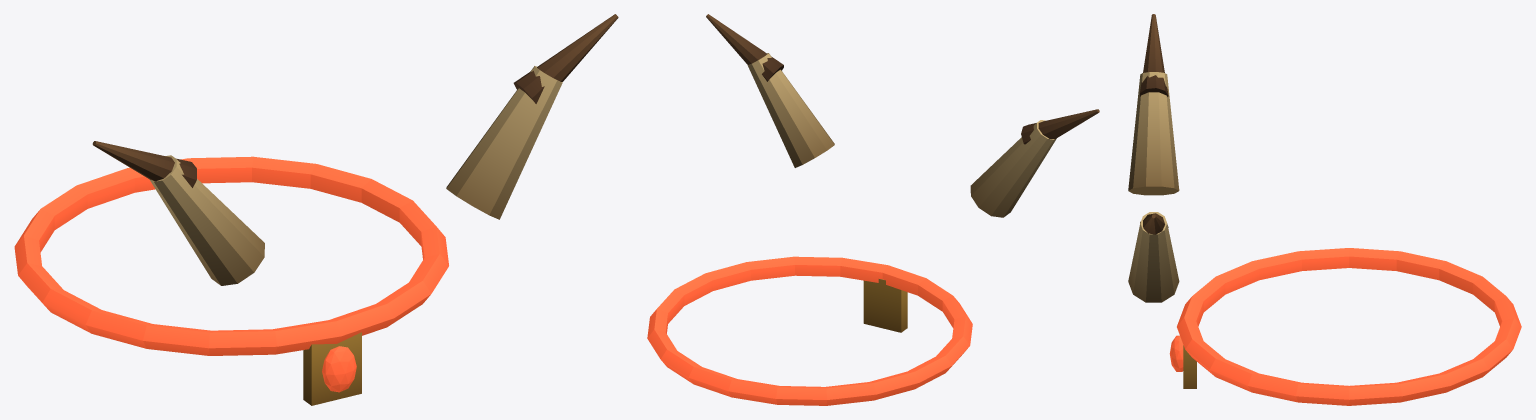
Rendered from strong-cow-accessories.glb.
3 views of the same model, side by side, from view 1: azimuth 30°, elevation 25°; view 2: azimuth 150°, elevation 25°; view 3: azimuth 270°, elevation 25° (orthographic). The views are drawn at different scales.
Visible parts, largest first — view 1: StrongCowEmberCollar, StrongCowHornBaseR, StrongCowHornBaseL, StrongCowCollarTag, StrongCowHornTipR, StrongCowHornTipL, StrongCowCollarEmber; view 2: StrongCowEmberCollar, StrongCowHornBaseR, StrongCowHornBaseL, StrongCowCollarTag, StrongCowHornTipR, StrongCowHornTipL; view 3: StrongCowEmberCollar, StrongCowHornBaseL, StrongCowHornBaseR, StrongCowHornTipL, StrongCowCollarTag, StrongCowCollarEmber, StrongCowHornTipR.
Part boxes in pixels (<box>): StrongCowEmberCollar: <box>14,156,448,355</box>; StrongCowHornBaseR: <box>446,66,562,219</box>; StrongCowHornBaseL: <box>149,155,264,285</box>; StrongCowCollarTag: <box>303,332,361,405</box>; StrongCowHornTipR: <box>513,14,618,103</box>; StrongCowHornTipL: <box>92,141,196,187</box>; StrongCowCollarEmber: <box>322,346,356,392</box>; StrongCowEmberCollar: <box>647,256,972,405</box>; StrongCowHornBaseR: <box>747,53,834,167</box>; StrongCowHornBaseL: <box>970,120,1056,217</box>; StrongCowCollarTag: <box>863,279,907,332</box>; StrongCowHornTipR: <box>706,14,783,81</box>; StrongCowHornTipL: <box>1021,109,1099,144</box>; StrongCowEmberCollar: <box>1177,248,1521,405</box>; StrongCowHornBaseL: <box>1128,72,1179,195</box>; StrongCowHornBaseR: <box>1128,212,1179,302</box>; StrongCowHornTipL: <box>1140,14,1168,96</box>; StrongCowCollarTag: <box>1183,345,1196,388</box>; StrongCowCollarEmber: <box>1169,335,1183,371</box>; StrongCowHornTipR: <box>1140,213,1168,234</box>.
Bounding box in the file's own units: 3.55 × 2.17 × 2.92.
